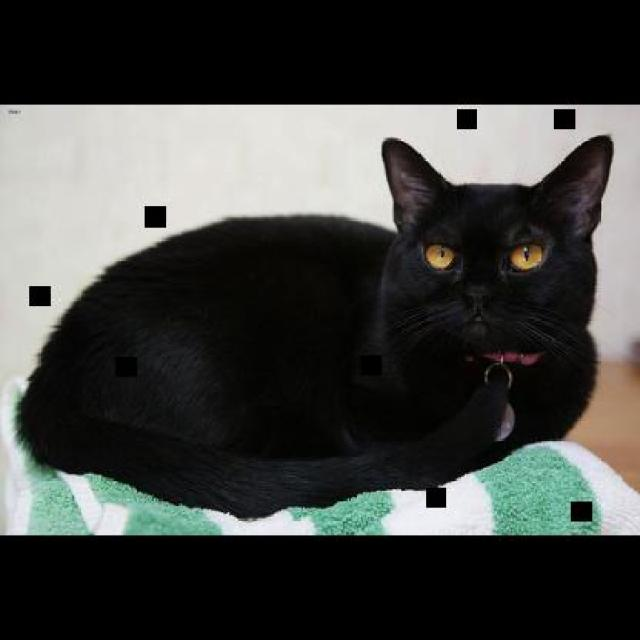unauthorized: (12, 132, 614, 518)
